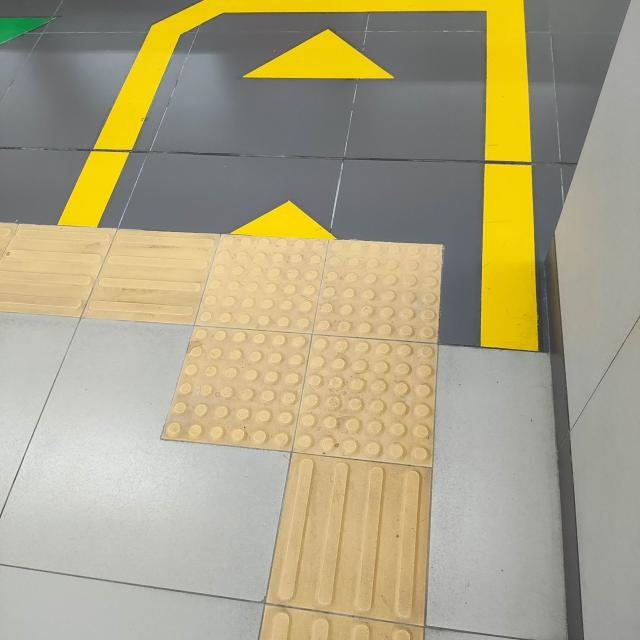kiri: (9, 177, 518, 526)
